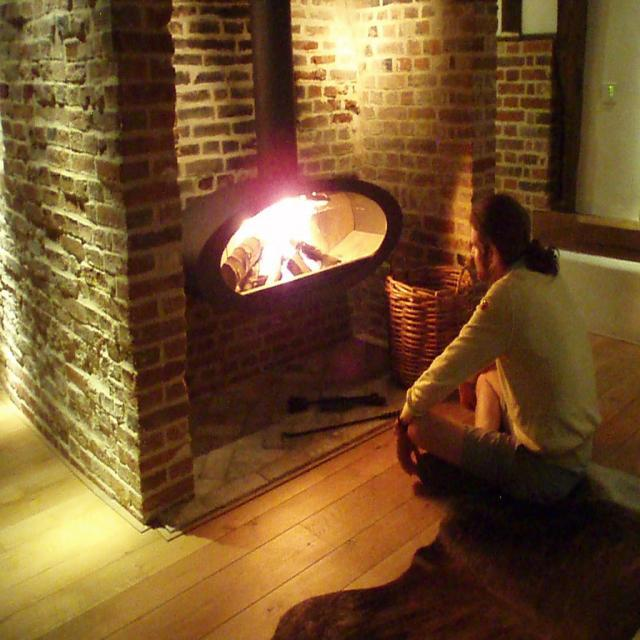Fire: (224, 182, 360, 296)
